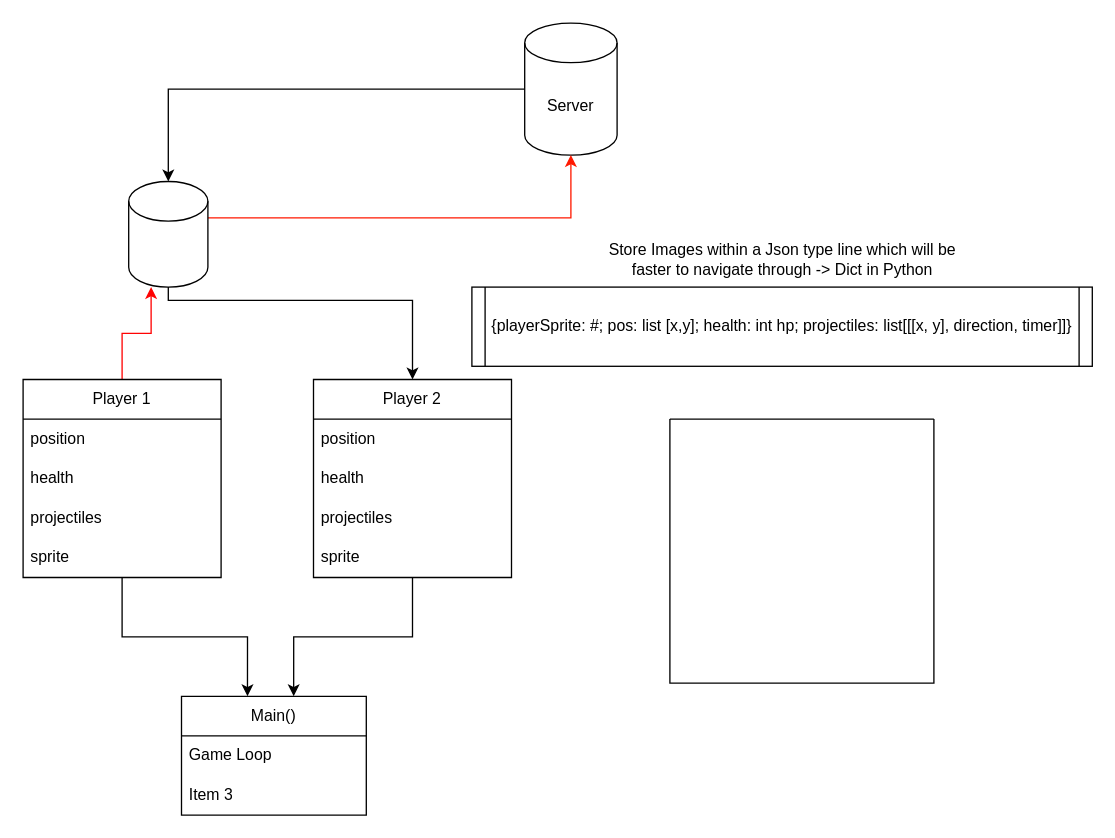
The diagram is 1115 pixels wide and 838 high, and some of its shapes have lost their labels. Here are the shapes that lost their labels. From the top down, the centre of each, then its label:
pixel 167 233: Client
pixel 801 550: pseudo code
